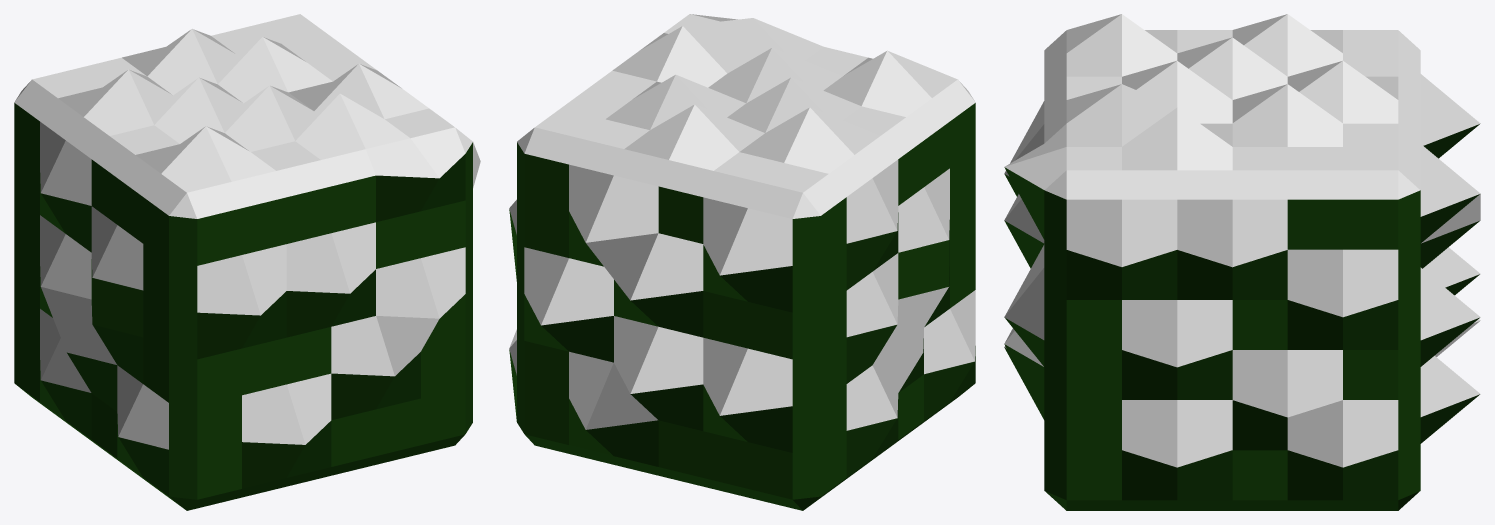
Rendered from Bush_4_Snow.fbx.
3 renders of one model, left to right at view 1: azimuth 30°, elevation 25°; view 2: azimuth 150°, elevation 25°; view 3: azimuth 270°, elevation 25°, orthographic. The views are drawn at different scales.
Parts seen in each view (by area): view 1: Bush_4_Snow; view 2: Bush_4_Snow; view 3: Bush_4_Snow.
Boxes of the visible parts, x1,y1,x2,y2 form: Bush_4_Snow: (14,14,480,510); Bush_4_Snow: (509,14,975,510); Bush_4_Snow: (1004,14,1480,510).
Bounding box in the file's own units: 88.41 × 82.73 × 93.98.
